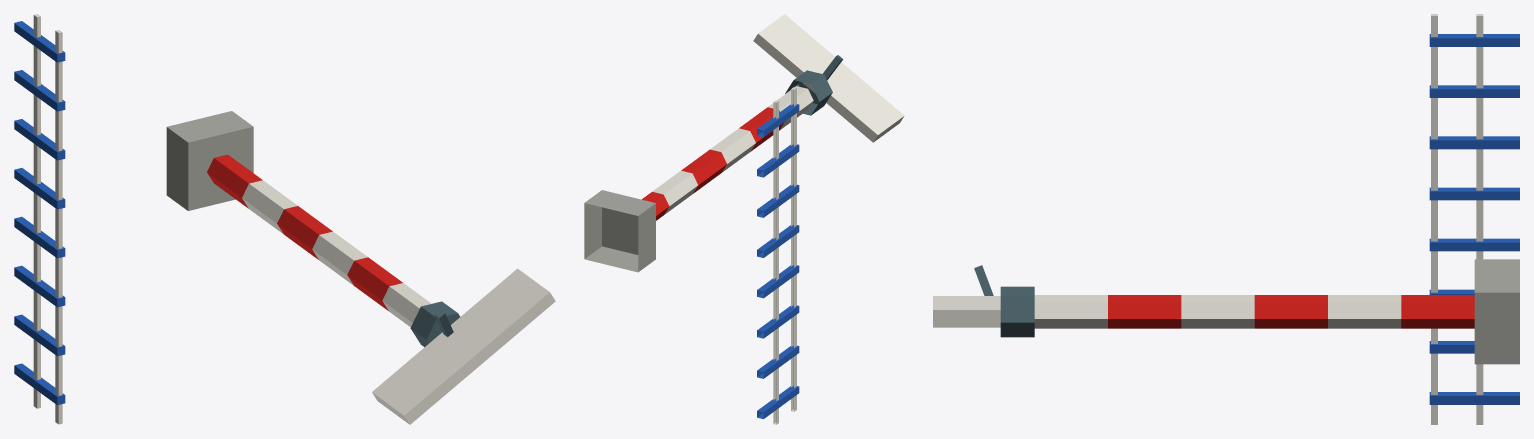
The model's file is frame_1.glb.
3 renders of one model, left to right at view 1: azimuth 30°, elevation 25°; view 2: azimuth 150°, elevation 25°; view 3: azimuth 270°, elevation 25°, orthographic. The views are drawn at different scales.
Parts seen in each view (by area): view 1: t0_3_g52.001; view 2: t0_3_g52.001; view 3: t0_3_g52.001.
Boxes of the visible parts, bbox=[...] form: t0_3_g52.001: bbox=[14, 14, 555, 424]; t0_3_g52.001: bbox=[584, 14, 904, 424]; t0_3_g52.001: bbox=[933, 14, 1519, 424].
Size of the model in its own units: 11.16 by 16 by 20.8.
